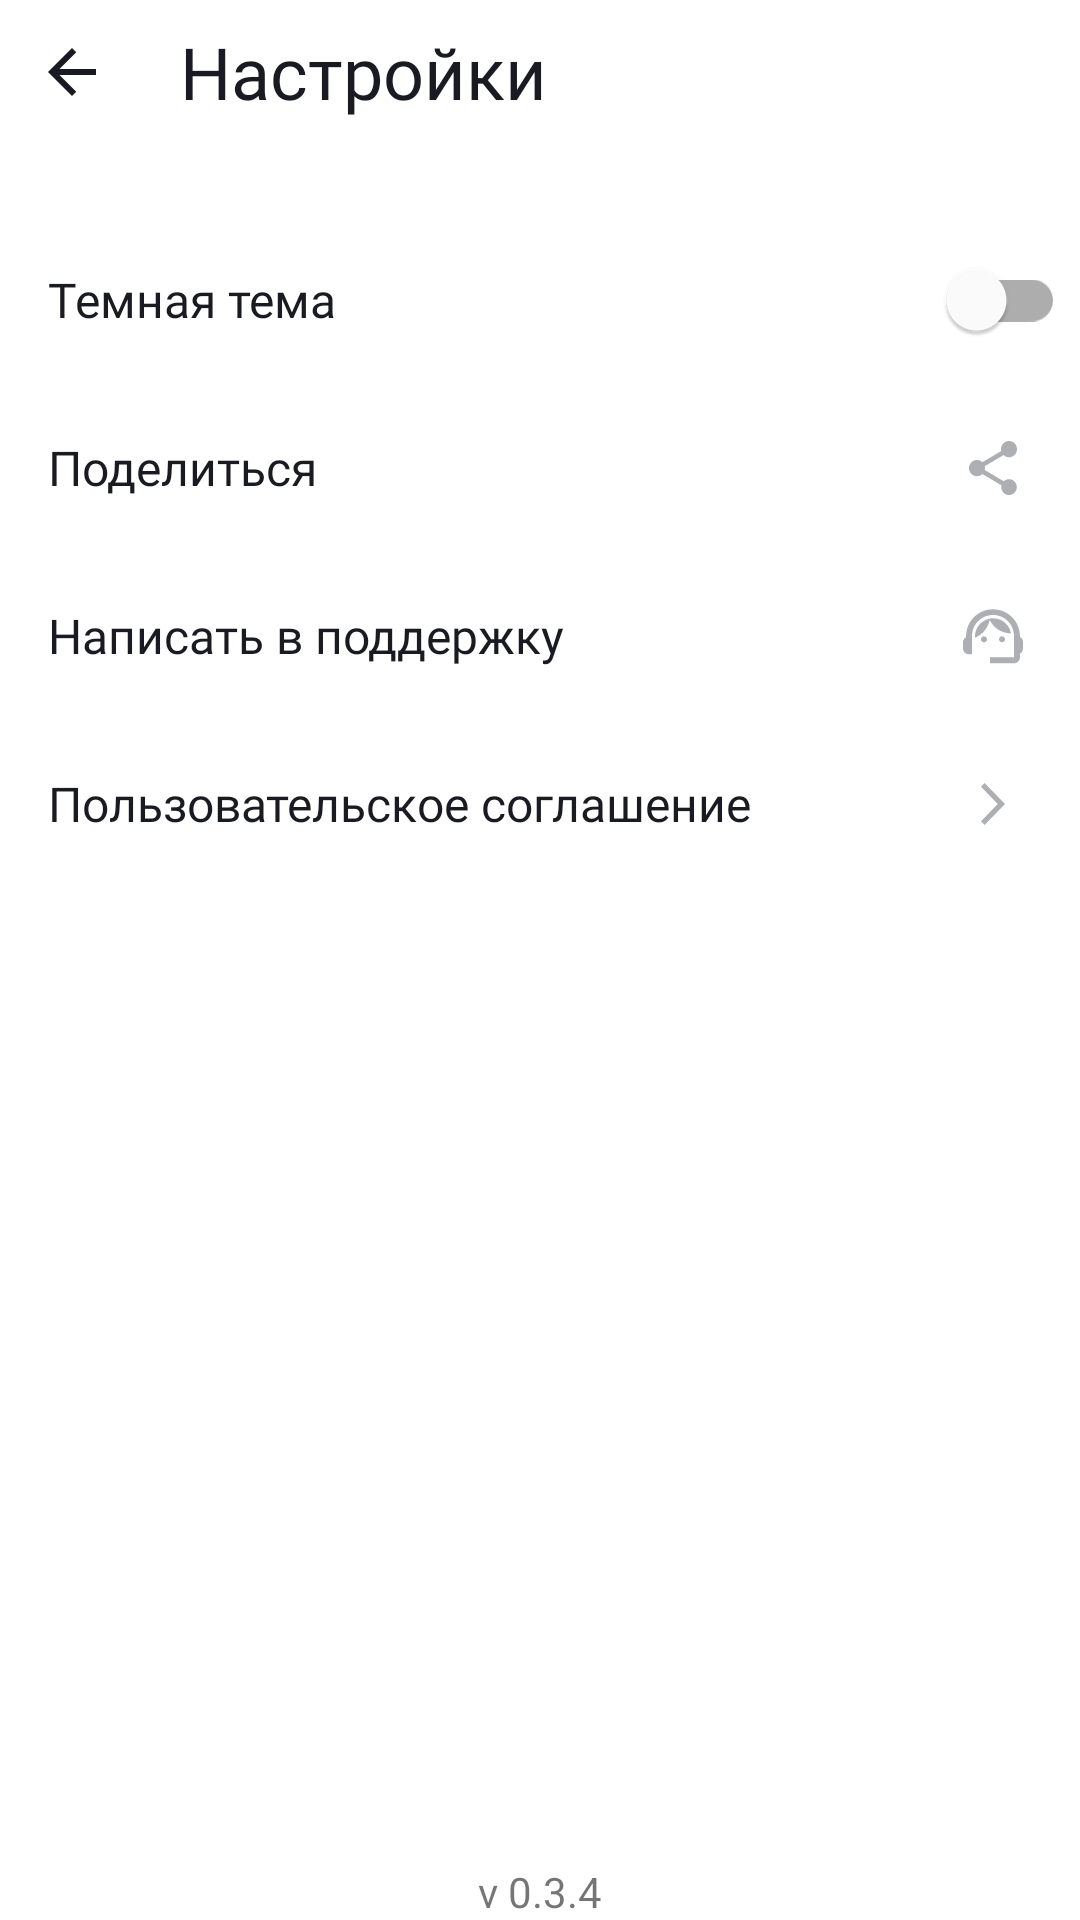

Icon bounding boxes for this 1080px×1920px phone screenshot, format [left=x1, top=y1, right=x2, bottom=y2]:
Далее: [left=981, top=783, right=1005, bottom=825]
Написать в поддержку: [left=963, top=609, right=1023, bottom=663]
Поделиться: [left=969, top=441, right=1017, bottom=495]
